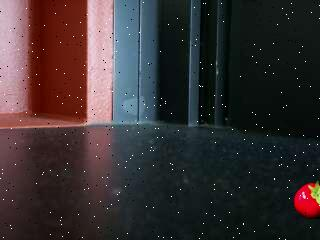Tomato: (293, 179, 320, 219)
